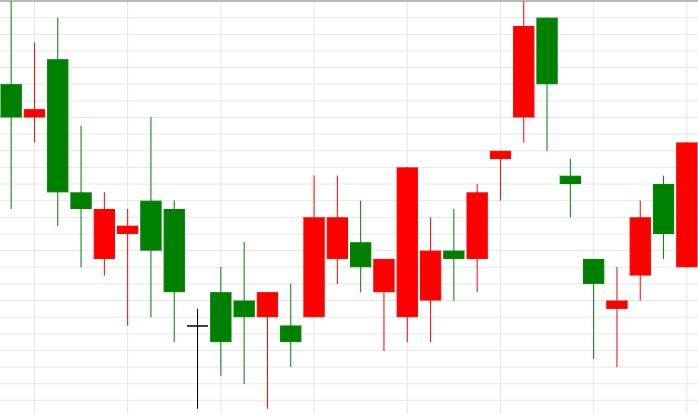hammer_rise: (0, 0, 279, 409), (512, 0, 605, 360)
